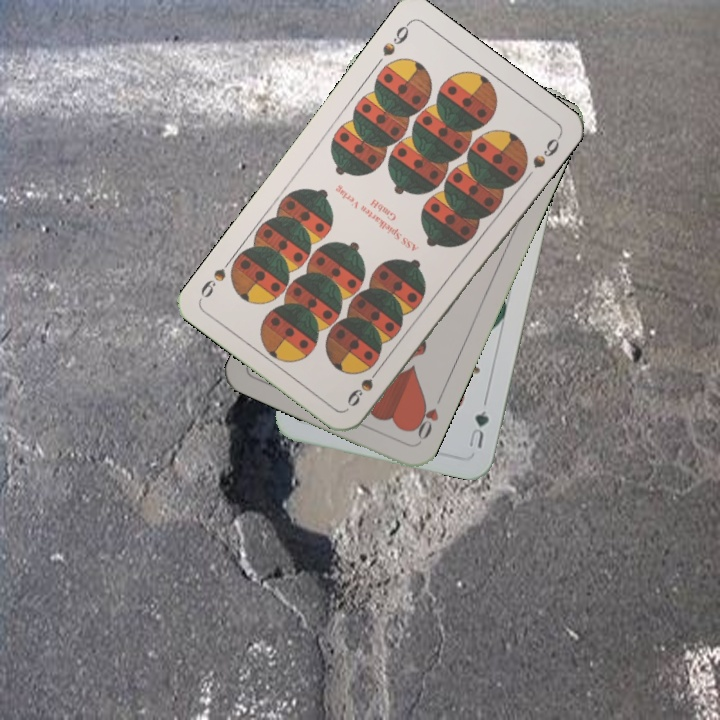GU: (464, 405, 492, 451)
HO: (408, 389, 446, 445)
S9: (343, 360, 385, 410), (378, 18, 413, 59)
